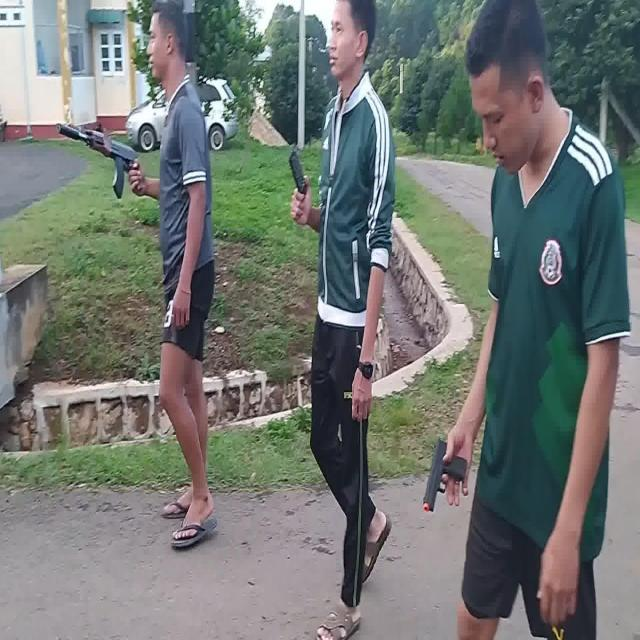gun: (56, 122, 134, 200), (424, 437, 468, 507)
